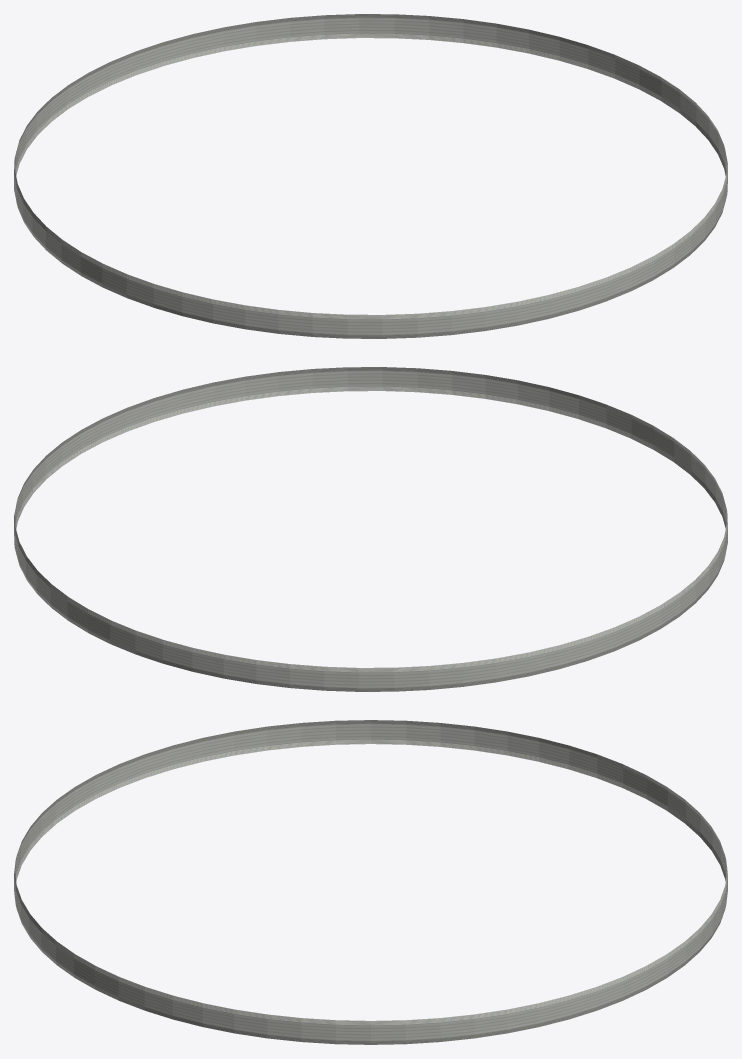
File: body.obj
3 renders of one model, top to bottom at view 1: azimuth 30°, elevation 25°; view 2: azimuth 150°, elevation 25°; view 3: azimuth 270°, elevation 25°, orthographic.
Size of the model in its own units: 0.9424 by 0.035 by 0.9424.
